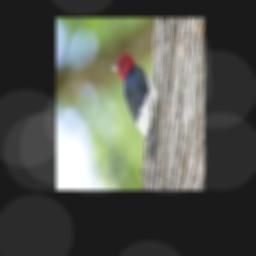Woodpecker: (107, 54, 165, 163)
